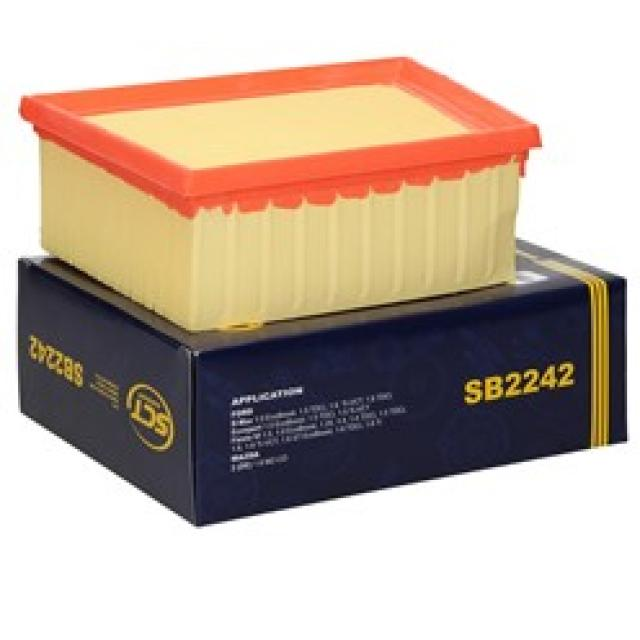air_filter: (19, 47, 551, 321)
